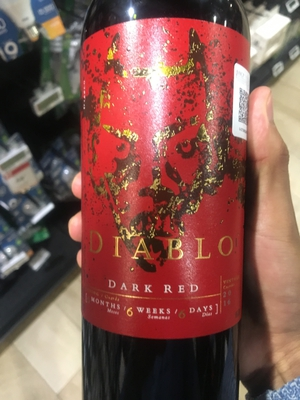diablo dark red: (74, 18, 269, 400)
